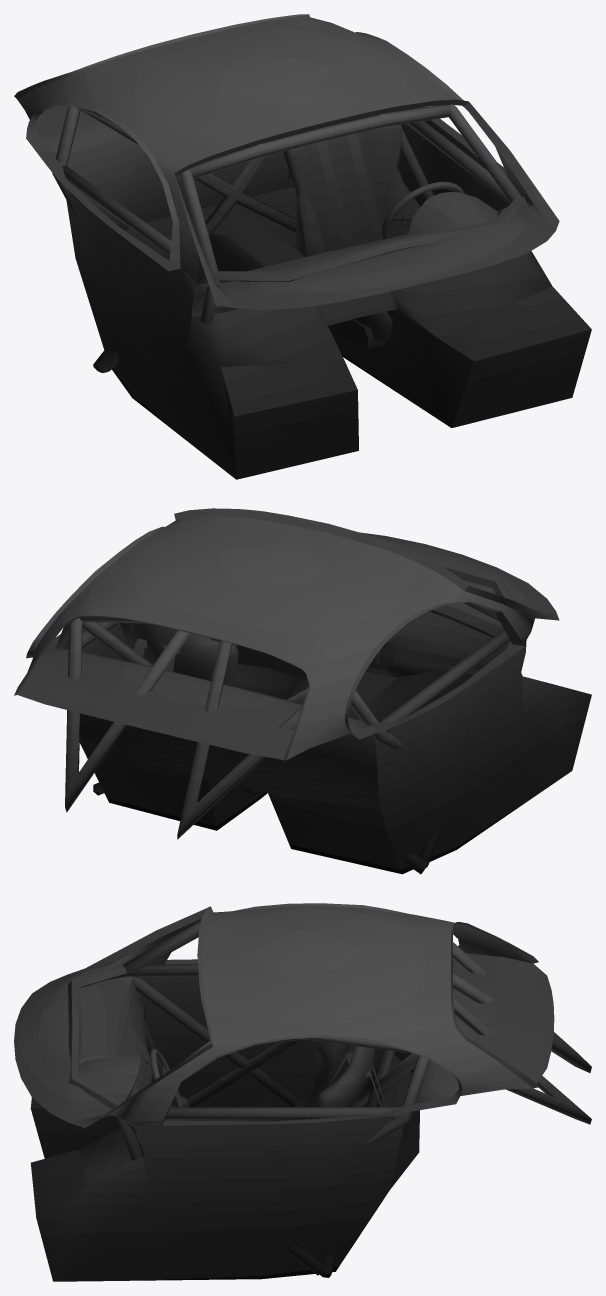
The model's file is misc_tier_r.fbx.
3 renders of one model, top to bottom at view 1: azimuth 30°, elevation 25°; view 2: azimuth 150°, elevation 25°; view 3: azimuth 270°, elevation 25°, orthographic. The views are drawn at different scales.
Visible parts, largest first — view 1: Z4_Car_interior_tier_r; view 2: Z4_Car_interior_tier_r; view 3: Z4_Car_interior_tier_r.
Part boxes in pixels (left/top/right/bottom): Z4_Car_interior_tier_r: left=14, top=14, right=591, bottom=479; Z4_Car_interior_tier_r: left=14, top=508, right=591, bottom=874; Z4_Car_interior_tier_r: left=14, top=903, right=591, bottom=1281.
Size of the model in its own units: 1.45 by 1.03 by 2.13.
